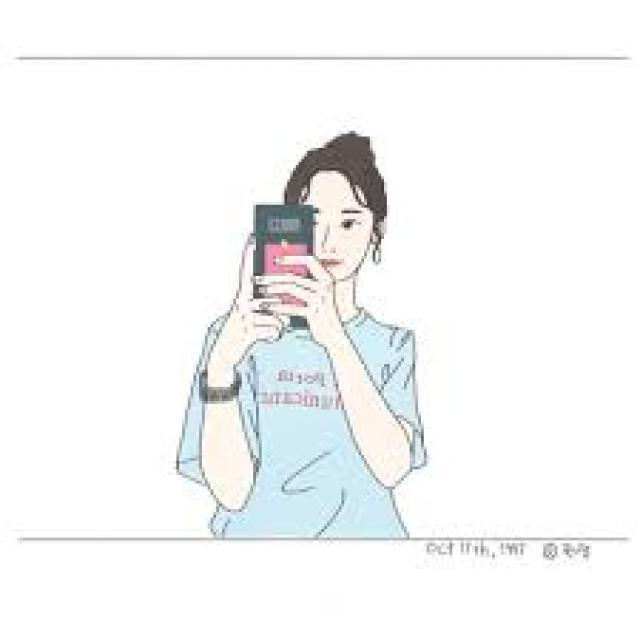Phone: (256, 204, 313, 334)
